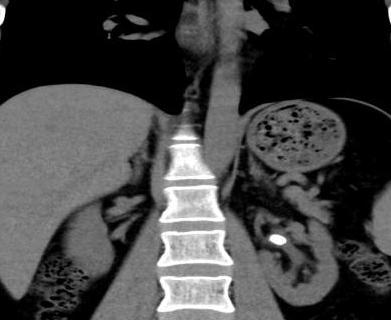Tas_Var: (268, 232, 288, 246)
